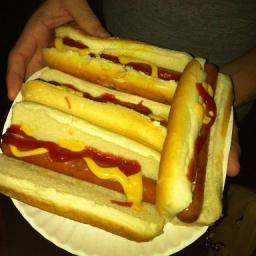hotdog: (6, 134, 160, 203), (182, 133, 211, 225), (204, 57, 220, 219), (104, 52, 184, 82), (52, 36, 106, 66)
